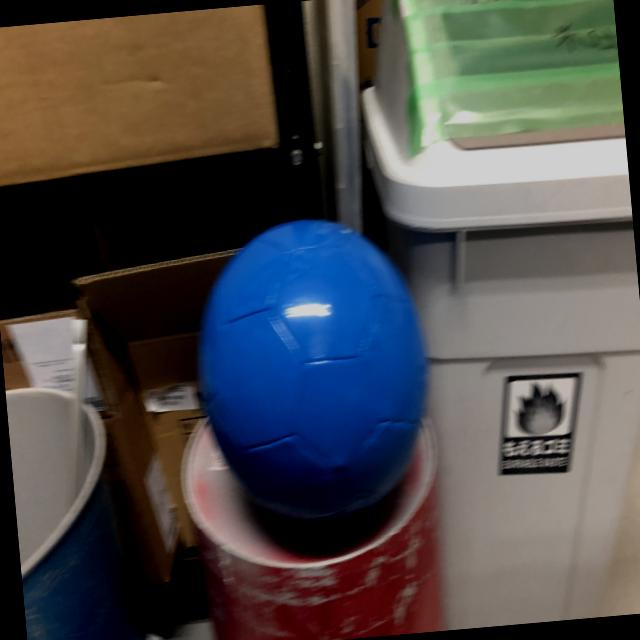blue_ball: (184, 209, 438, 538)
